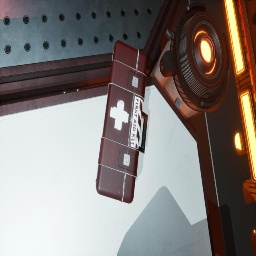FirstAidBox ,: (96, 40, 148, 204)
